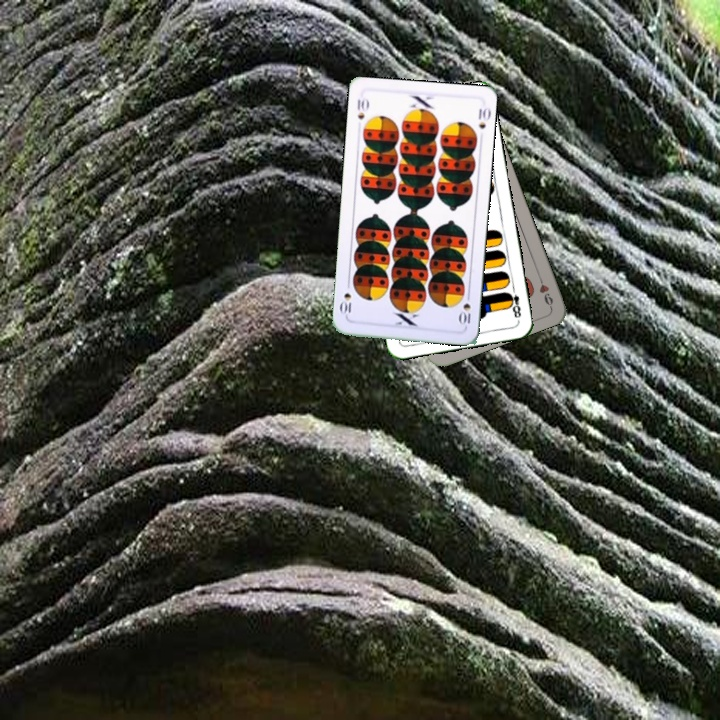E8: (503, 282, 523, 320)
H9: (534, 270, 556, 310)
S10: (456, 288, 473, 329), (353, 95, 371, 122)
